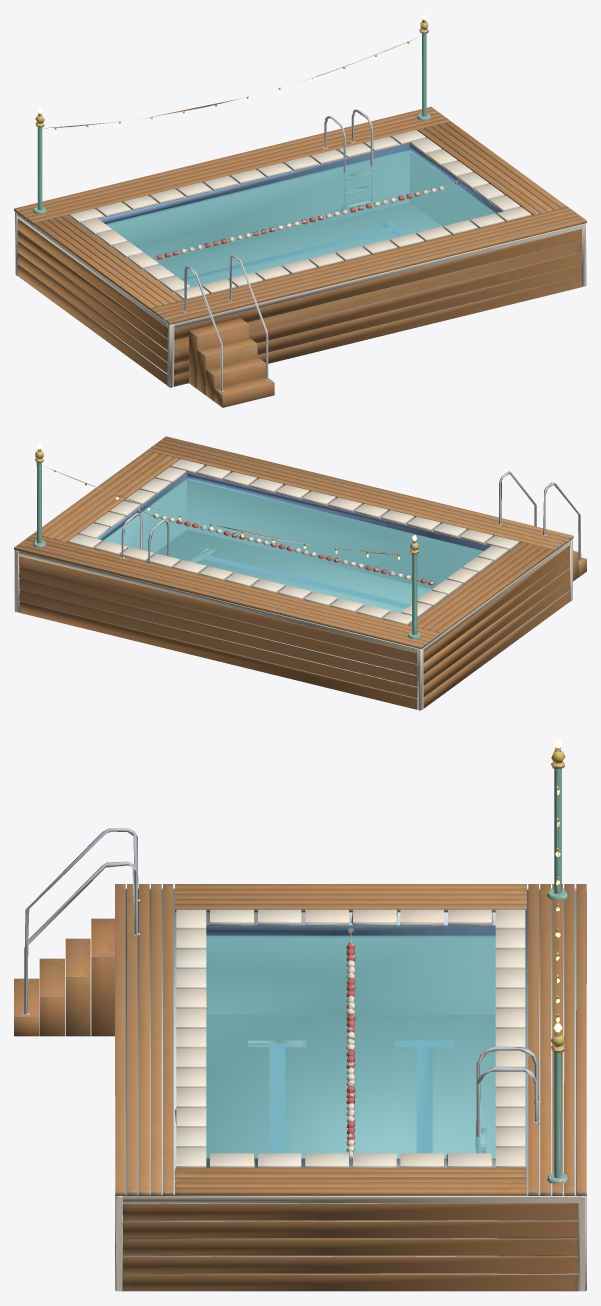
File: swimming-pool.glb
The picture shows the model from 3 angles, top to bottom: view 1: azimuth 30°, elevation 25°; view 2: azimuth 150°, elevation 25°; view 3: azimuth 270°, elevation 25°; orthographic projection. The views are drawn at different scales.
Visible parts, largest first — view 1: swimming-pool_body, swimming-pool_water; view 2: swimming-pool_body, swimming-pool_water; view 3: swimming-pool_body, swimming-pool_water.
Part boxes in pixels (left/top/right/bottom): swimming-pool_body: left=14, top=19, right=586, bottom=407; swimming-pool_water: left=105, top=150, right=496, bottom=287; swimming-pool_body: left=14, top=436, right=586, bottom=710; swimming-pool_water: left=102, top=478, right=483, bottom=612; swimming-pool_body: left=14, top=747, right=586, bottom=1291; swimming-pool_water: left=206, top=935, right=495, bottom=1158.
Bounding box in the file's own units: 7.94 × 3.07 × 6.23.
Materials: 3 (1 with a texture image).
